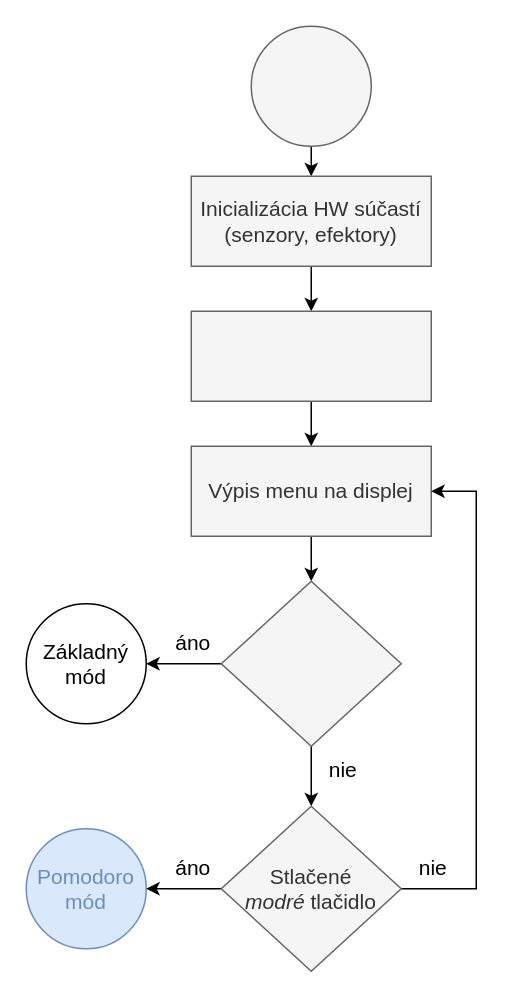
Image size: 515x998. Some labels were removed from this diagram. The shapes that lost their labels are listed below. From the top down, each one's box as (x1, y1, x2, y2) in pixels, then its label:
(250, 25, 371, 146): Štart zariadenia
(190, 310, 431, 401): Výpis úvodného textu na displej "Programmer reminder"
(220, 580, 401, 746): Stlačené biele tlačidlo
